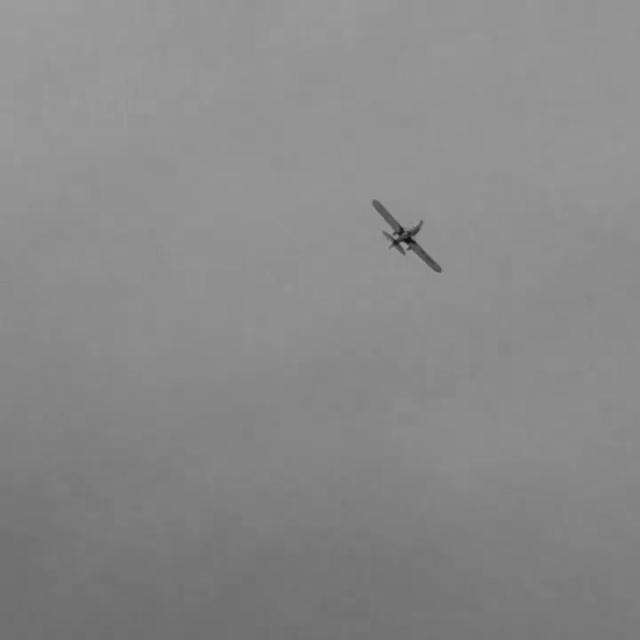iha: (385, 227, 419, 247)
